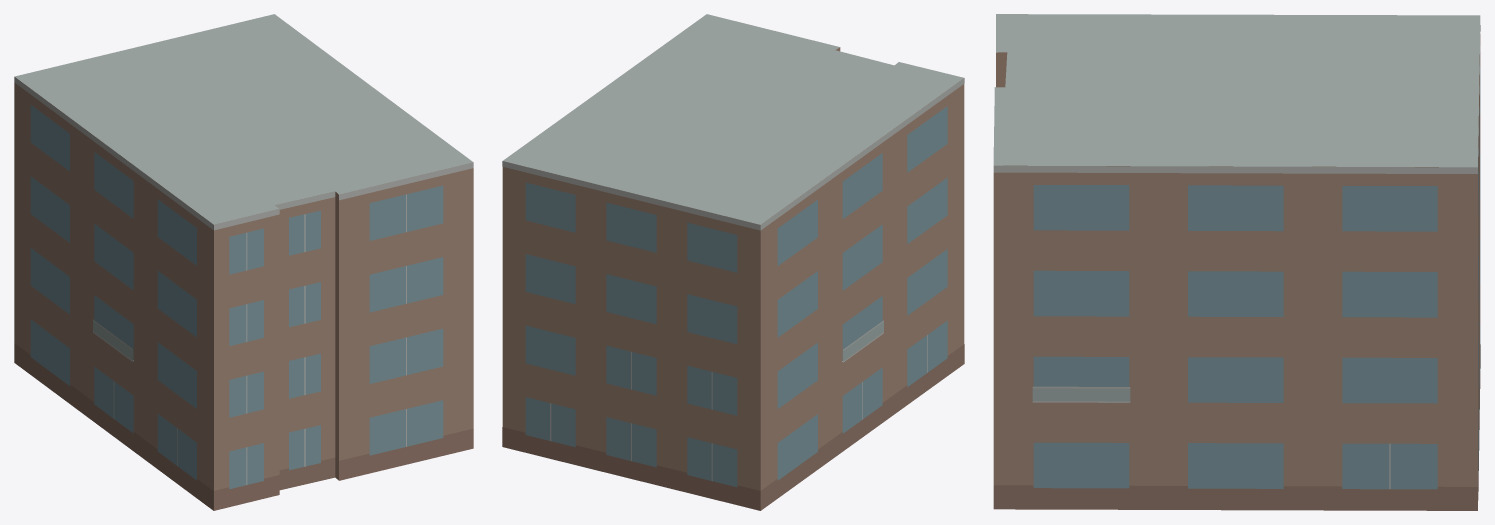
File: survey-upis-32673754.glb
The picture shows the model from 3 angles, left to right: view 1: azimuth 30°, elevation 25°; view 2: azimuth 150°, elevation 25°; view 3: azimuth 270°, elevation 25°; orthographic projection. The views are drawn at different scales.
Parts seen in each view (by area): view 1: survey-upis-32673754.tmp; view 2: survey-upis-32673754.tmp; view 3: survey-upis-32673754.tmp.
Part boxes in pixels (box(x1,y1,x2,y2)): survey-upis-32673754.tmp: box(14, 14, 473, 510); survey-upis-32673754.tmp: box(502, 14, 964, 510); survey-upis-32673754.tmp: box(993, 14, 1480, 510).
Bounding box in the file's own units: 11.68 × 12.2 × 15.68.
